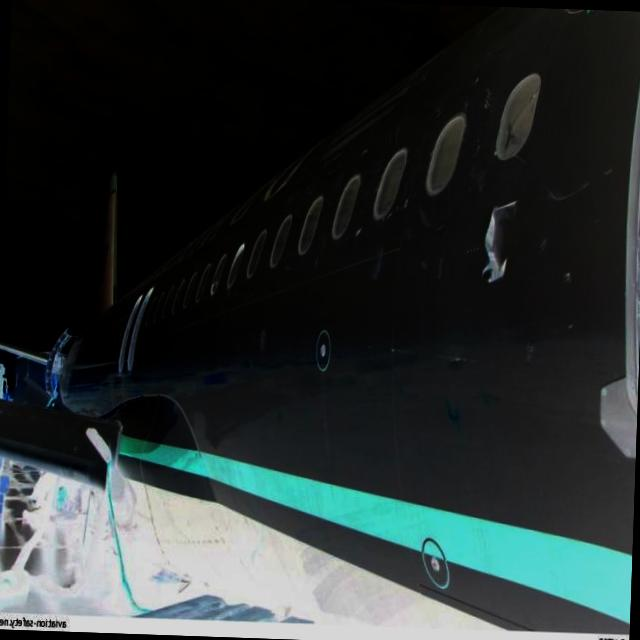crack: (478, 192, 522, 286)
